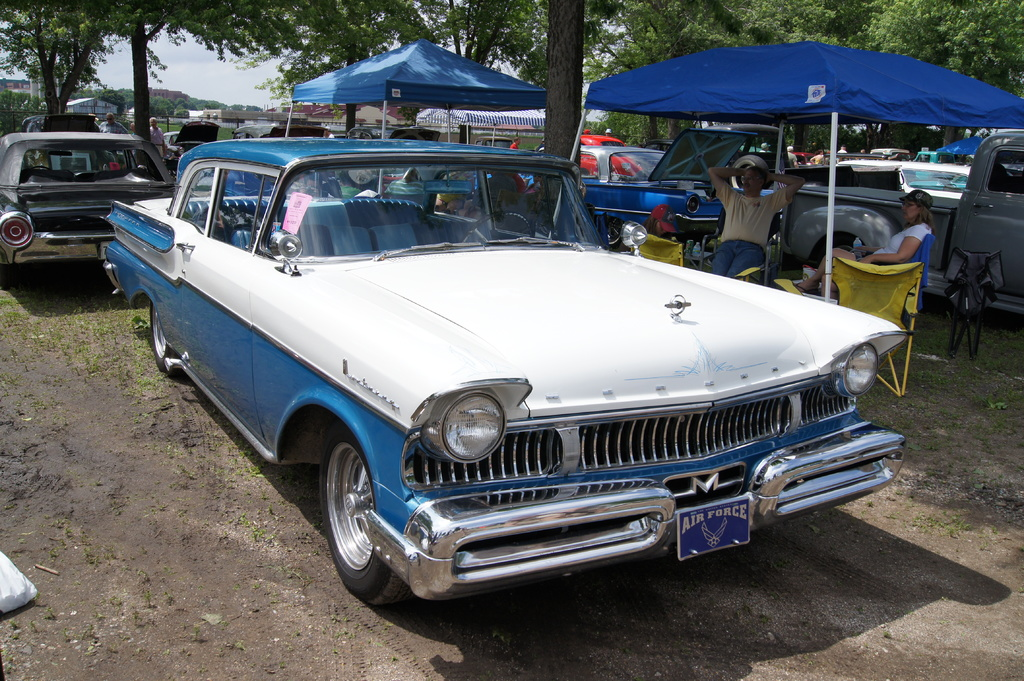Car: (103, 141, 934, 625), (777, 130, 1023, 307), (0, 125, 175, 272), (588, 122, 729, 229)
